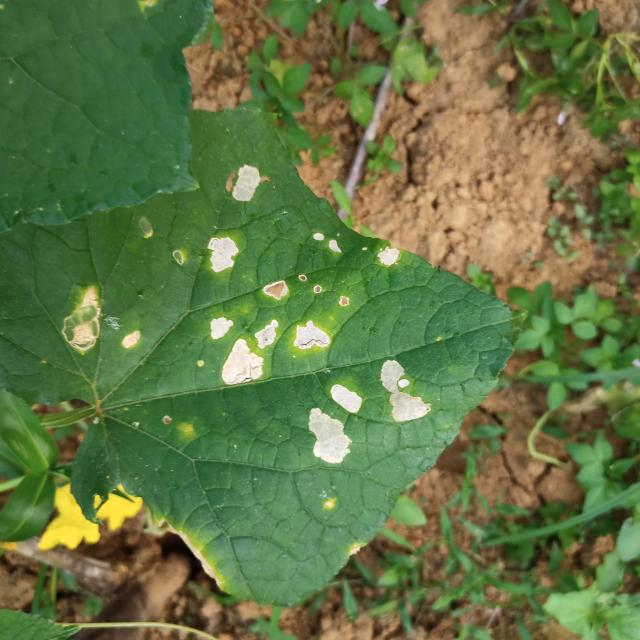disease_cucumber: (207, 278, 333, 388), (60, 284, 144, 357), (305, 382, 365, 466), (377, 356, 432, 426), (204, 232, 241, 276), (230, 162, 262, 205), (311, 232, 346, 258), (376, 245, 401, 269)
